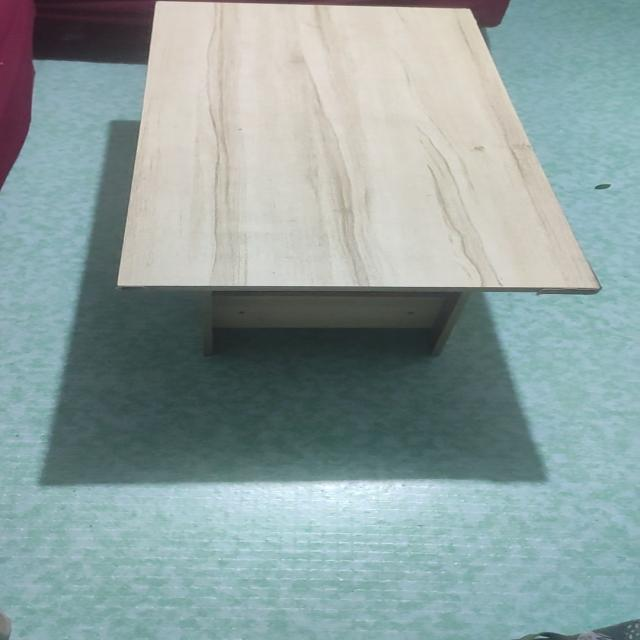table: (115, 1, 607, 367)
